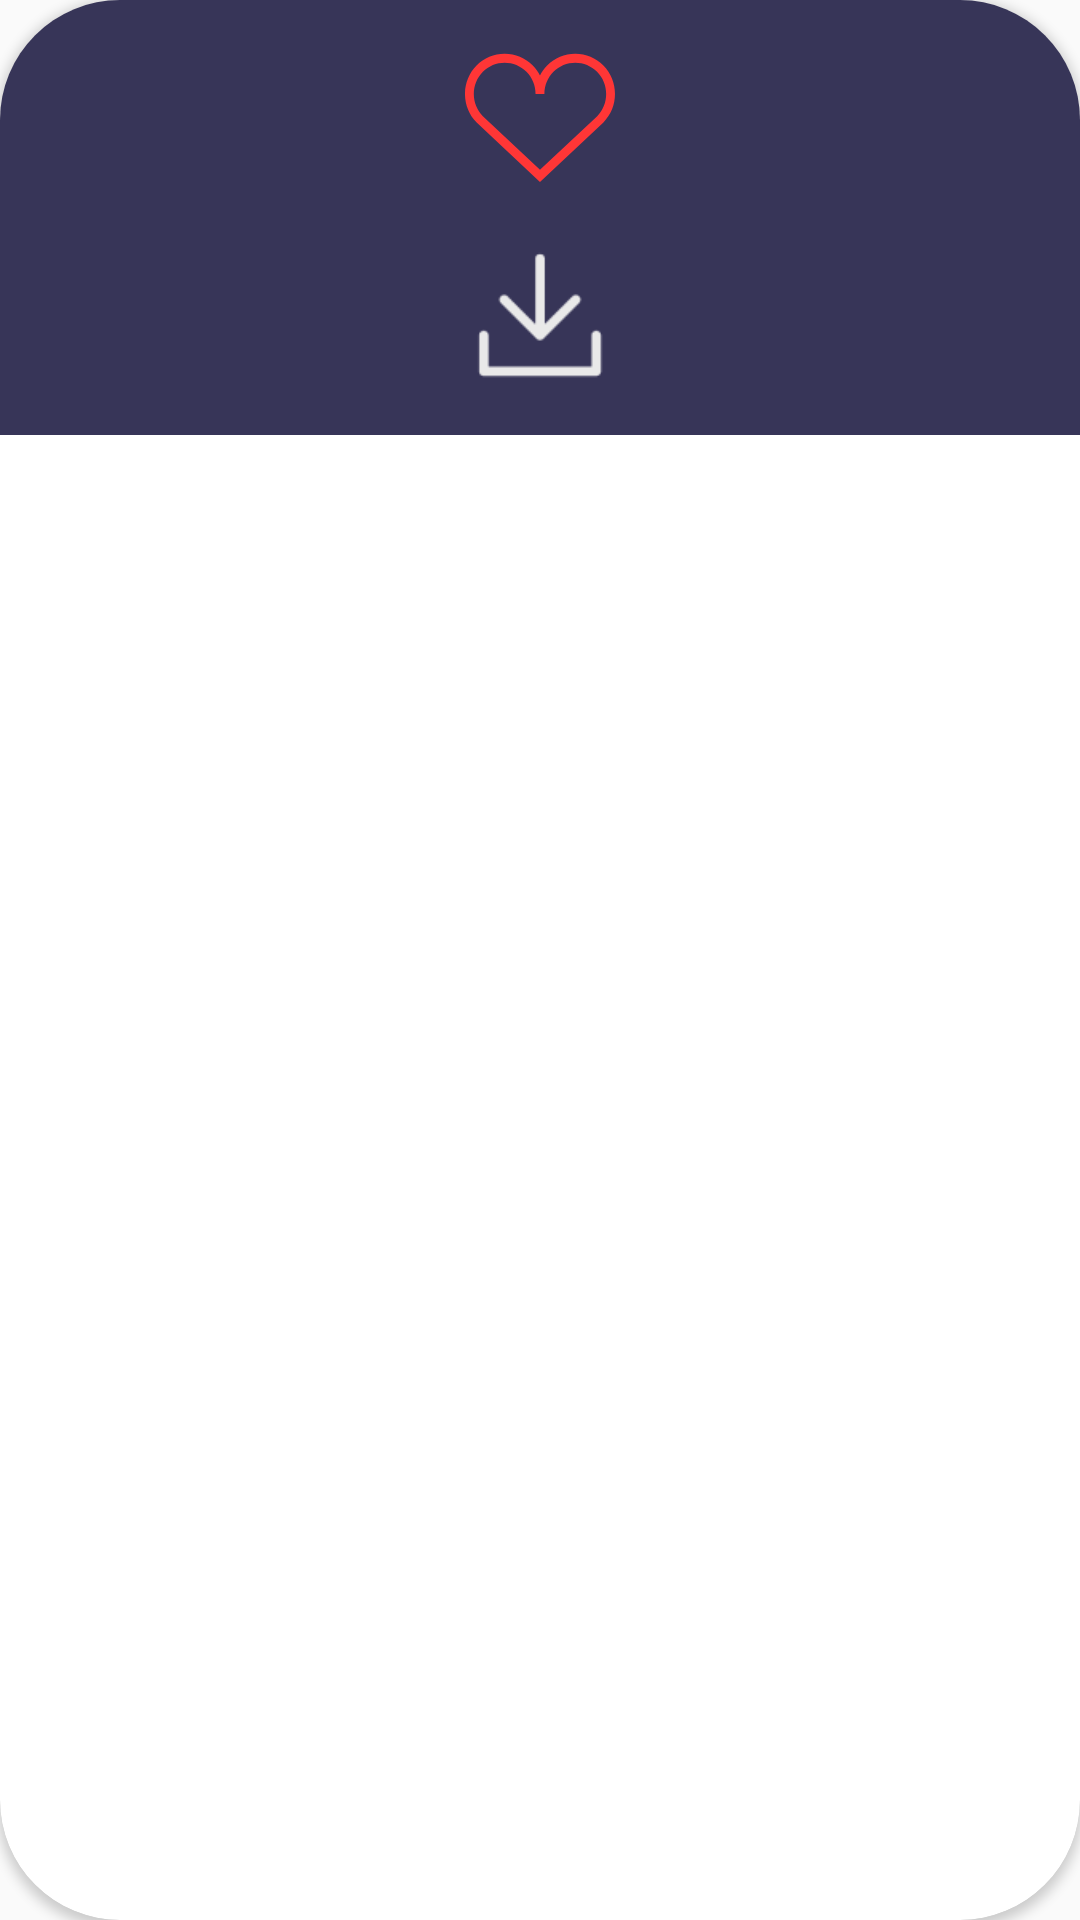

Point at icon controls on the screen. Image size 1080 × 1920, points as [x,y].
Download: [540,315]
